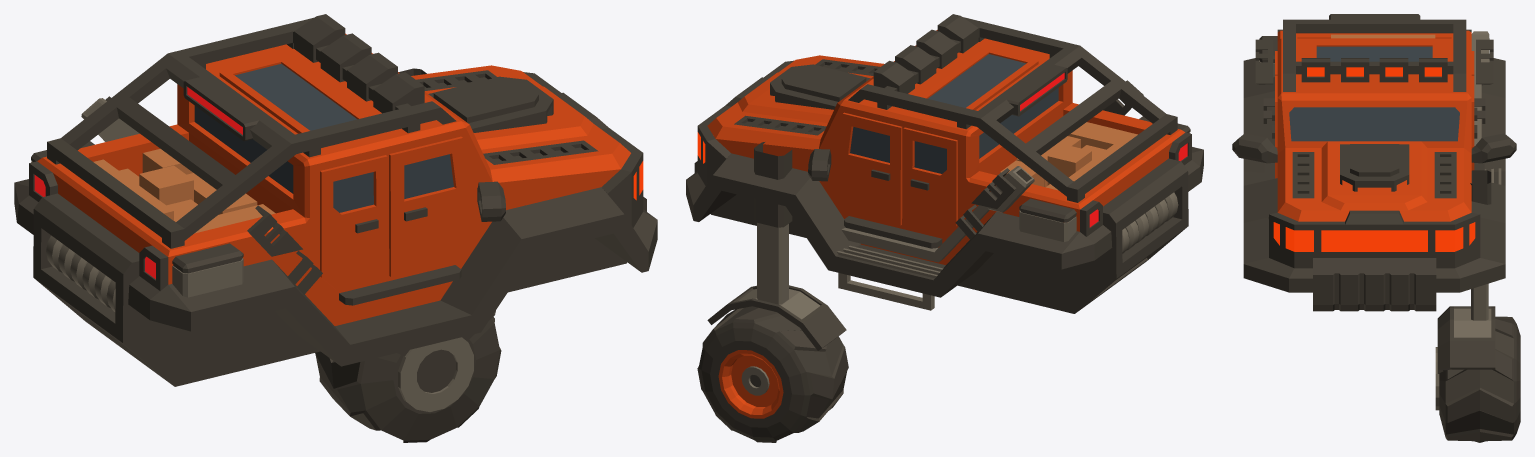
3 renders of one model, left to right at view 1: azimuth 30°, elevation 25°; view 2: azimuth 150°, elevation 25°; view 3: azimuth 270°, elevation 25°, orthographic. The views are drawn at different scales.
Visible parts, largest first — view 1: bodyBlack, bodyRed, wheel.001, glass, boxes, bodyMetal, wheelGuard.002, wheelGuard, stopLights; view 2: bodyBlack, bodyRed, wheel.001, bodyMetal, glass, boxes, wheel.002, Cylinder.016, wheelGuard, Cylinder.023, wheelGuard.002, stopLights (+1 smaller); view 3: bodyBlack, bodyRed, glass, wheel.001, headlights, wheelGuard, wheelGuard.002, bodyMetal, Cylinder.023, Cylinder.016, boxes.
Part boxes in pixels (x1,y1,x2,y2): bodyBlack: (14,14,657,386); bodyRed: (37,33,630,325); wheel.001: (315,317,501,442); glass: (194,63,453,212); boxes: (93,148,275,233); bodyMetal: (31,98,243,311); wheelGuard.002: (398,337,473,411); wheelGuard: (397,310,495,392); stopLights: (34,87,242,278); bodyBlack: (686,14,1203,313); bodyRed: (707,30,1185,264); wheel.001: (697,306,848,442); bodyMetal: (837,132,1190,310); glass: (850,54,1058,173); boxes: (1000,122,1137,190); wheel.002: (718,350,783,418); Cylinder.016: (757,222,788,304); wheelGuard: (707,285,846,350); Cylinder.023: (754,142,792,227); wheelGuard.002: (737,289,820,319); stopLights: (1020,73,1187,227); bodyBlack: (1232,14,1516,311); bodyRed: (1275,30,1474,221); glass: (1289,46,1459,141); wheel.001: (1439,316,1520,442); headlights: (1285,67,1463,251); wheelGuard: (1437,306,1495,373); wheelGuard.002: (1435,308,1491,410); bodyMetal: (1259,31,1501,184); Cylinder.023: (1470,170,1491,204); Cylinder.016: (1471,283,1488,320); boxes: (1331,34,1435,38).
Bounding box in the file's own units: 2.99 × 2.48 × 1.91.
